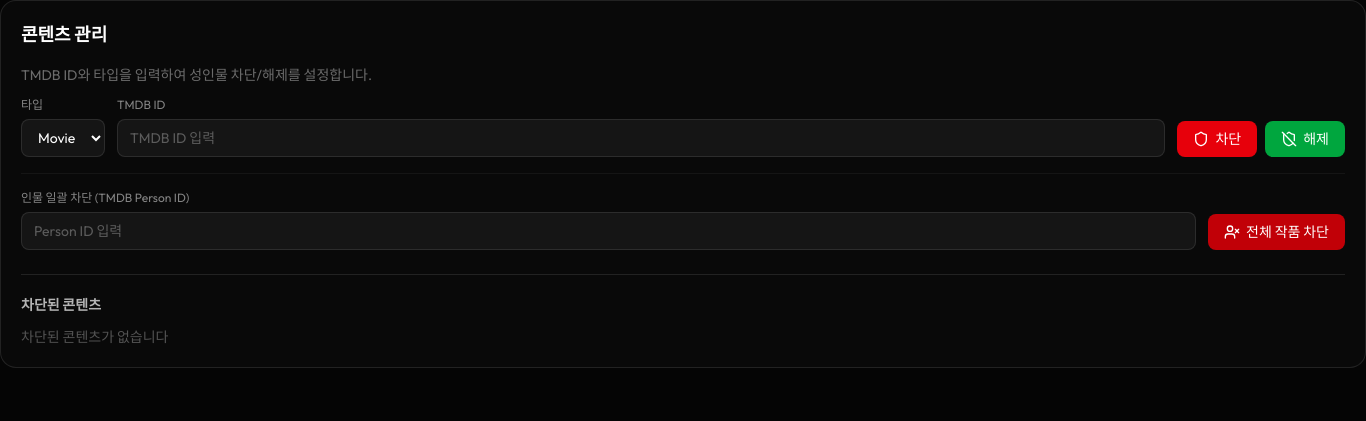
Test: ContentManagement › TMDB ID 없이 차단 버튼 클릭 시 에러 메시지를 표시해야 한다
Click the button "차단" at (1217, 139), box [1178,121,1257,157]
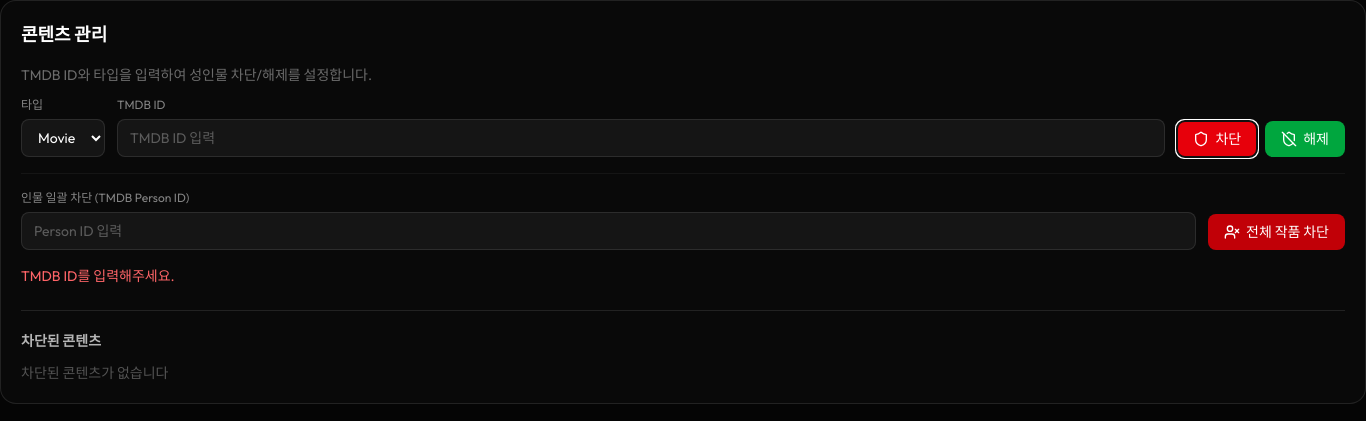
Expected: the text "TMDB ID를 입력해주세요." is shown, [21,267,175,285]
